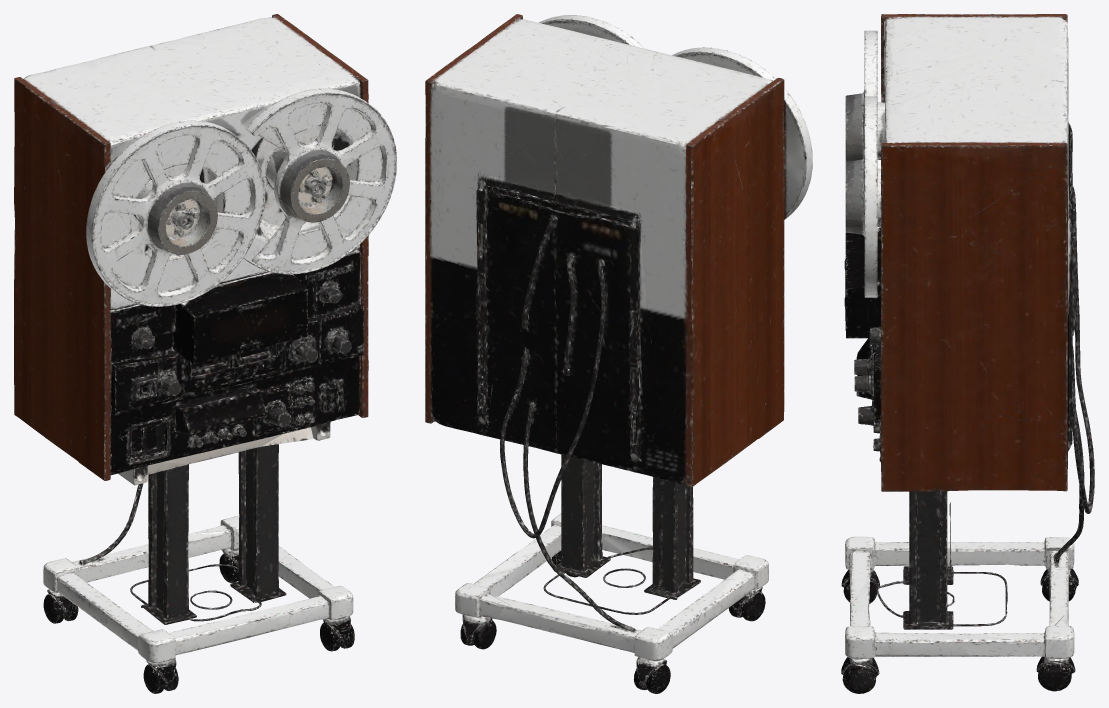
File: tape.glb
3 renders of one model, left to right at view 1: azimuth 30°, elevation 25°; view 2: azimuth 150°, elevation 25°; view 3: azimuth 270°, elevation 25°, orthographic. The views are drawn at different scales.
Visible parts, largest first — view 1: output_unwrapped; view 2: output_unwrapped; view 3: output_unwrapped.
Part boxes in pixels (bbox=[...]): output_unwrapped: bbox=[14, 14, 396, 693]; output_unwrapped: bbox=[425, 14, 812, 693]; output_unwrapped: bbox=[841, 14, 1094, 693].
Bounding box in the file's own units: 0.8021 × 1.4 × 0.5633.
1 material, 1 textured.
